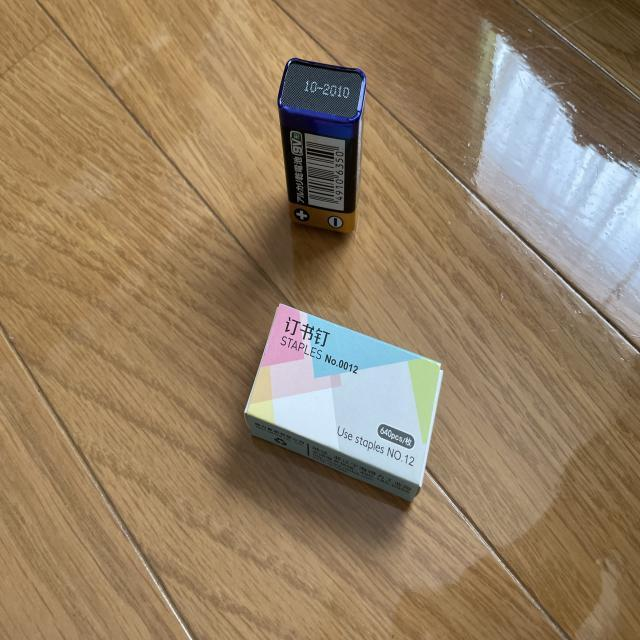9V: (277, 57, 368, 237)
